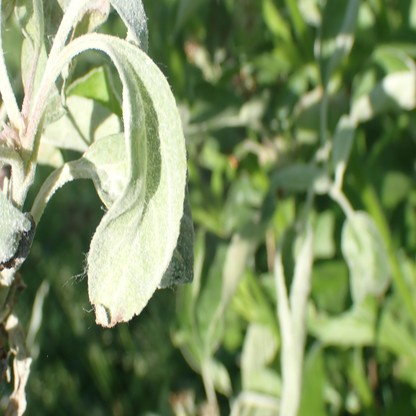powdery_mildew: (86, 6, 190, 328), (1, 161, 34, 290)
